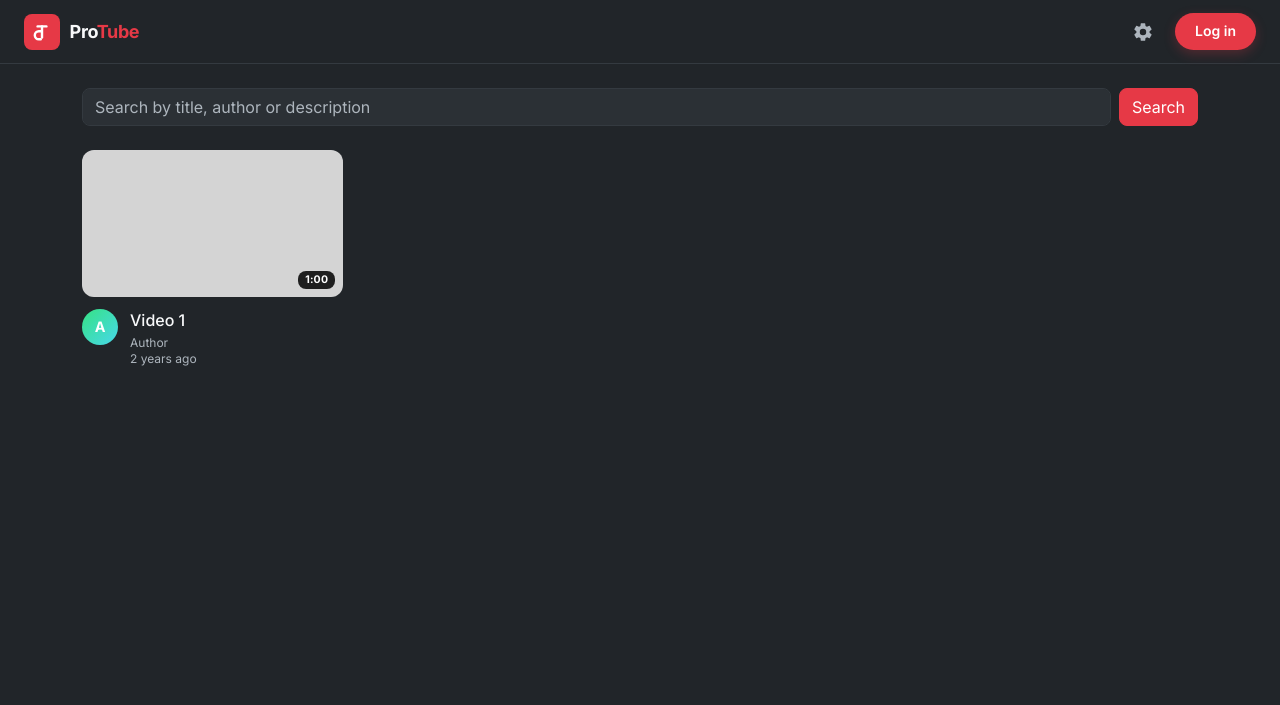
App › opens the settings page from the navbar
The image size is (1280, 705).
Click the button named "Settings". click: [1143, 32]
box: x1=1123 y1=12 x2=1163 y2=52
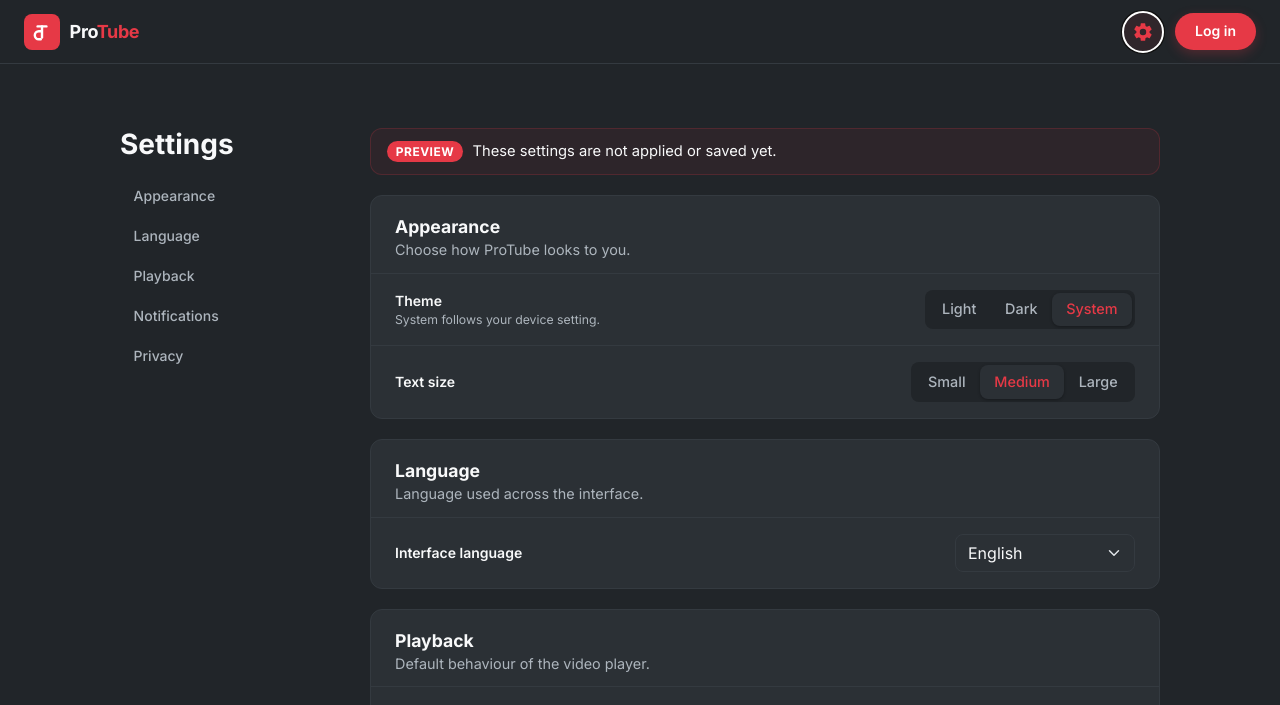
Expected: the heading "Appearance" is shown, x1=395 y1=216 x2=500 y2=237
